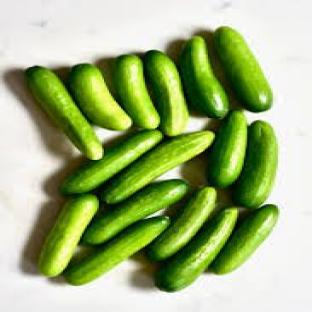Cucumber: (101, 131, 214, 204), (26, 66, 102, 159), (65, 217, 170, 284), (82, 180, 189, 245), (156, 208, 238, 291), (62, 131, 163, 194), (147, 188, 216, 260), (215, 27, 272, 112), (210, 205, 279, 274), (40, 195, 98, 276), (69, 64, 131, 130), (144, 50, 189, 136), (180, 37, 228, 117), (234, 121, 277, 207), (115, 55, 160, 129), (208, 111, 247, 188)
